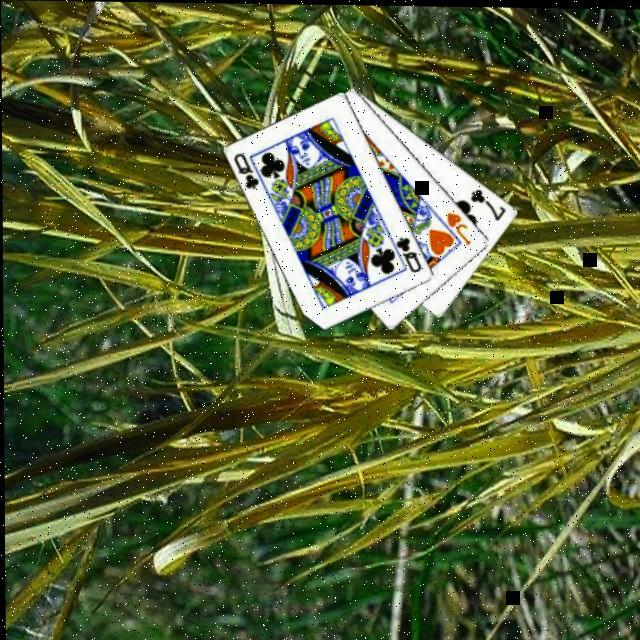7C: (466, 185, 507, 223)
JH: (442, 210, 472, 248)
QC: (391, 234, 422, 276), (228, 151, 259, 193)
